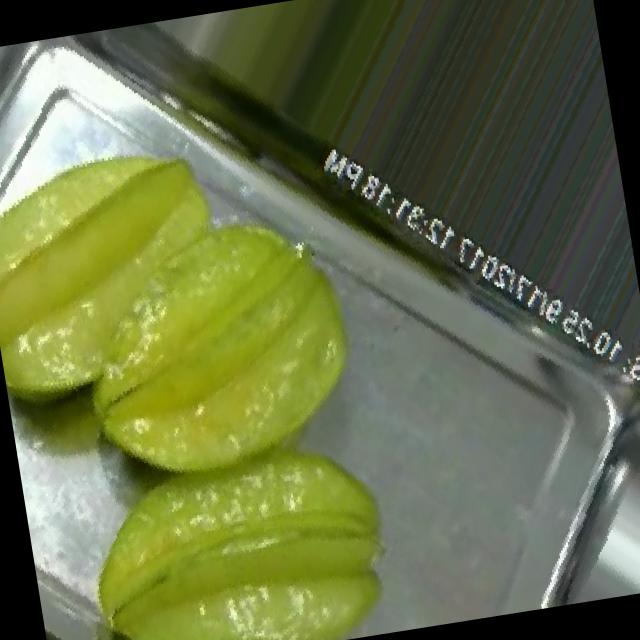fruit: (0, 59, 387, 571), (118, 0, 529, 243)
